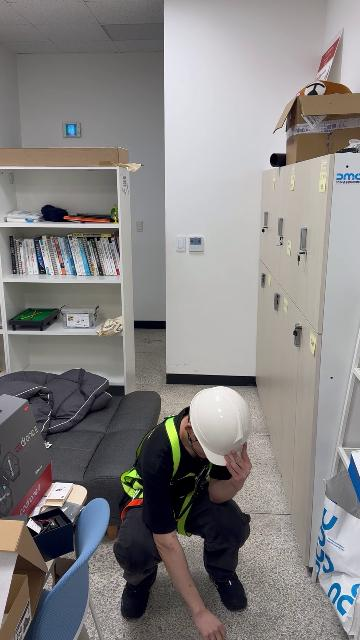helmet_worn: (189, 387, 251, 461)
shoe_worn: (119, 570, 156, 619), (210, 570, 247, 611)
vest_worn: (120, 412, 205, 526)
